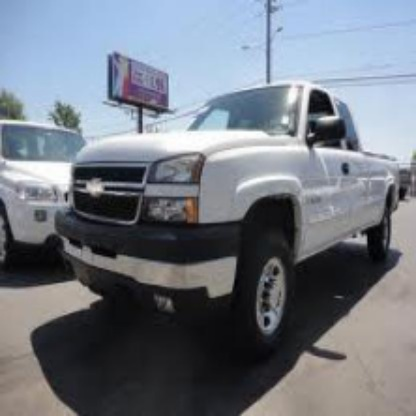Vehicle: (53, 82, 402, 358)
